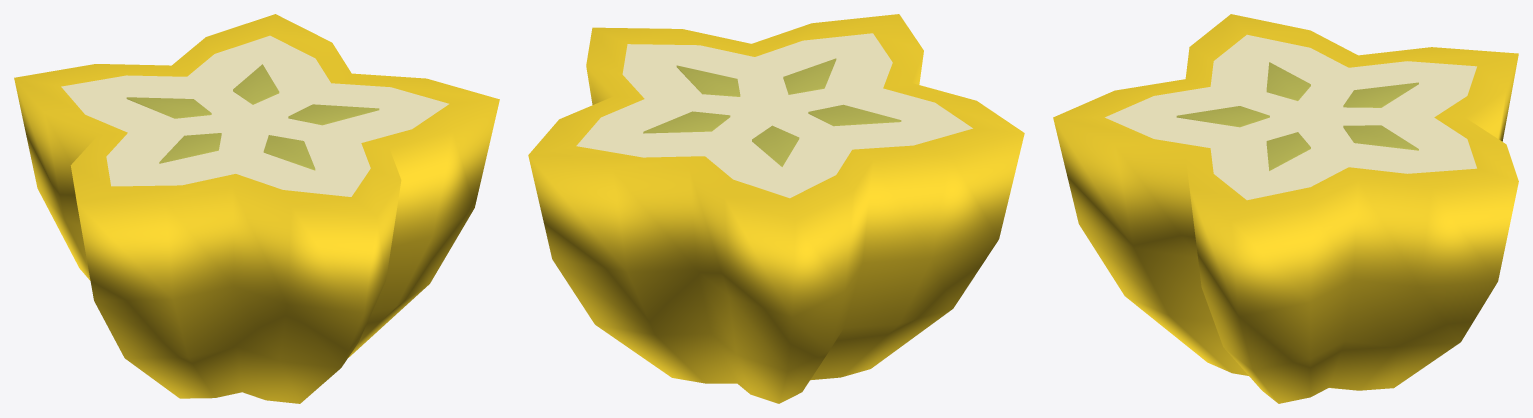
The model's file is item_starfruit.fbx.
The picture shows the model from 3 angles, left to right: view 1: azimuth 30°, elevation 25°; view 2: azimuth 150°, elevation 25°; view 3: azimuth 270°, elevation 25°; orthographic projection. The views are drawn at different scales.
Parts seen in each view (by area): view 1: Cube.003; view 2: Cube.003; view 3: Cube.003.
Boxes of the visible parts, box(x1,y1,x2,y2) form: Cube.003: box(14, 14, 499, 403); Cube.003: box(528, 14, 1024, 403); Cube.003: box(1053, 14, 1518, 403).
Size of the model in its own units: 185 by 113 by 176.
